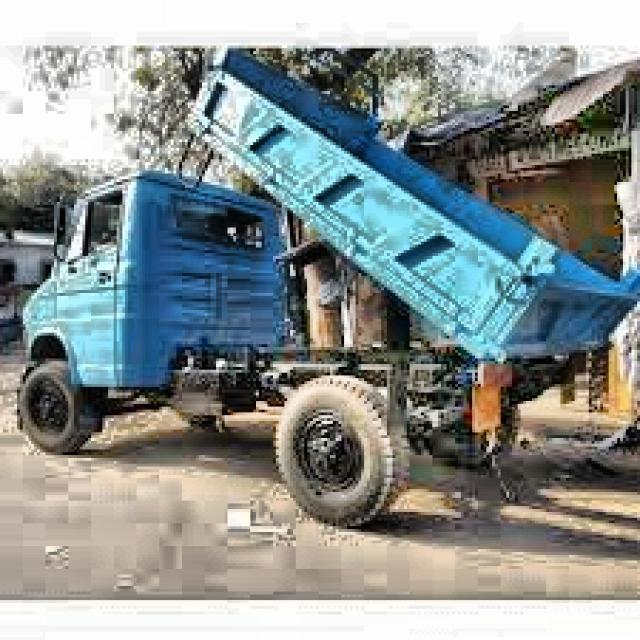dump_truck: (14, 44, 630, 534)
